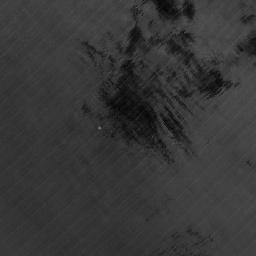Target: (96, 125, 102, 132)
